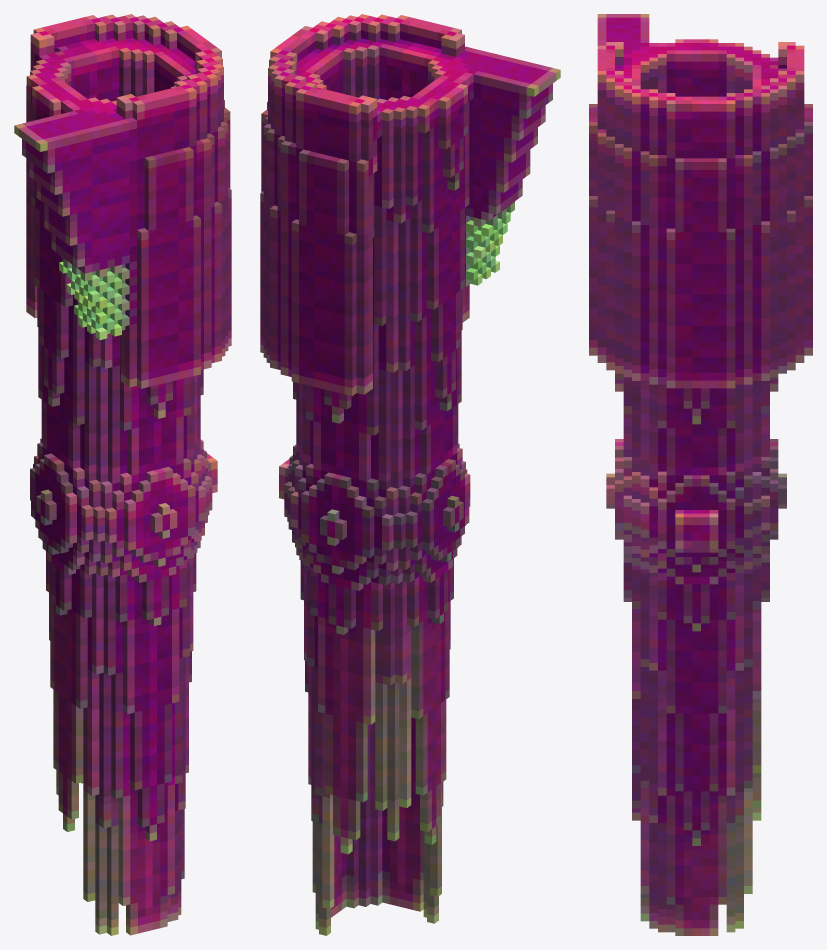
File: armor_set1_legs.glb
3 views of the same model, side by side, from view 1: azimuth 30°, elevation 25°; view 2: azimuth 150°, elevation 25°; view 3: azimuth 270°, elevation 25° (orthographic).
Visible parts, largest first — view 1: Set1_FlutedInquisitorGreave_7mm; view 2: Set1_FlutedInquisitorGreave_7mm; view 3: Set1_FlutedInquisitorGreave_7mm.
Boxes of the visible parts, x1,y1,x2,y2 form: Set1_FlutedInquisitorGreave_7mm: (14, 14, 231, 935); Set1_FlutedInquisitorGreave_7mm: (260, 14, 560, 935); Set1_FlutedInquisitorGreave_7mm: (589, 14, 812, 935).
Size of the model in its own units: 0.21 by 0.763 by 0.182.
